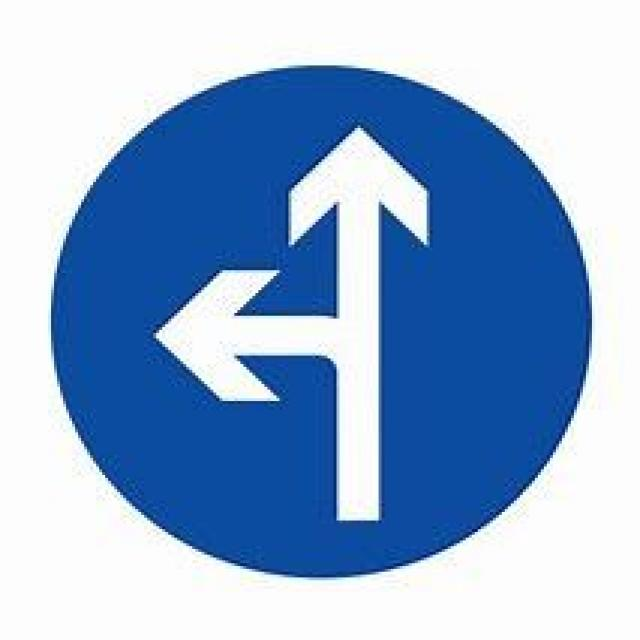COMPULSARY_AHEAD_OR_TURN_LEFT: (48, 59, 589, 574)
